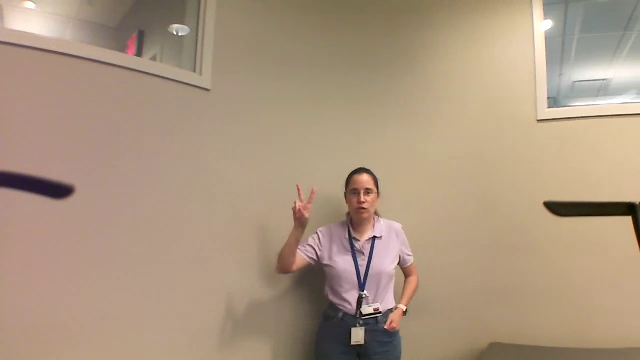peace: (286, 175, 321, 224)
